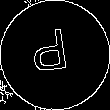P_S: (33, 27, 77, 83)
